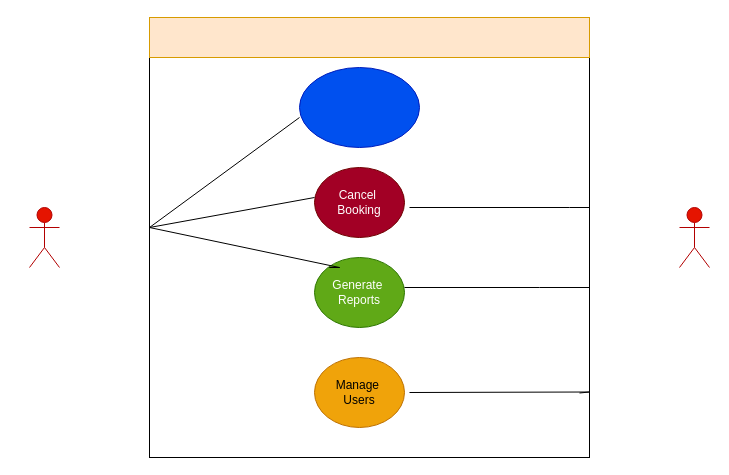
The diagram is 729 pixels wide and 475 high, and some of its shapes have lost their labels. The centre of each missing label's shape, as x and y in pixels:
"Booking Management System" belongs at point (369, 37).
"Make Booking" belongs at point (359, 107).
